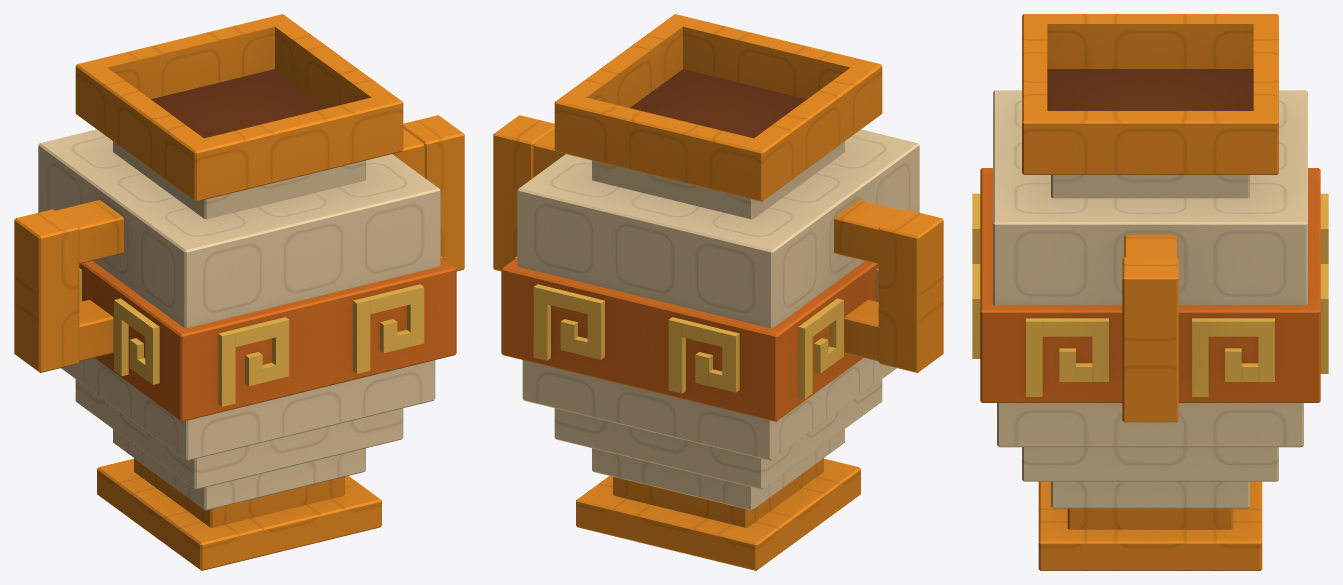
Rendered from ArtV13_Vase.fbx.
3 views of the same model, side by side, from view 1: azimuth 30°, elevation 25°; view 2: azimuth 150°, elevation 25°; view 3: azimuth 270°, elevation 25° (orthographic). The views are drawn at different scales.
Parts seen in each view (by area): view 1: ArtV13_Vase; view 2: ArtV13_Vase; view 3: ArtV13_Vase.
Boxes of the visible parts, left/top/right/bottom form: ArtV13_Vase: left=14, top=14, right=464, bottom=570; ArtV13_Vase: left=493, top=14, right=943, bottom=570; ArtV13_Vase: left=972, top=14, right=1328, bottom=570.
Size of the model in its own units: 3.16 by 3.04 by 2.15.
